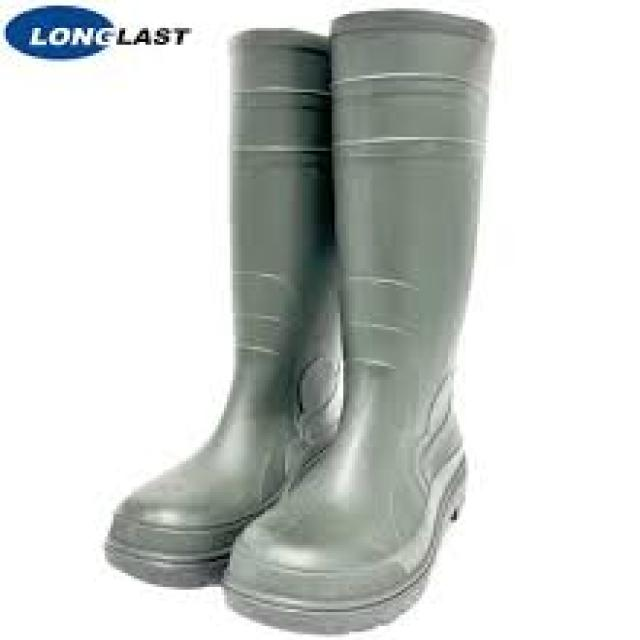shoes: (225, 12, 493, 632)
